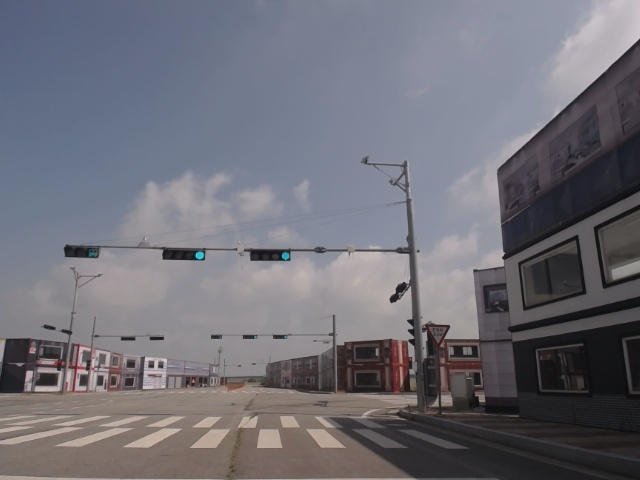straight_green_4: (251, 249, 292, 262), (162, 250, 205, 259)
